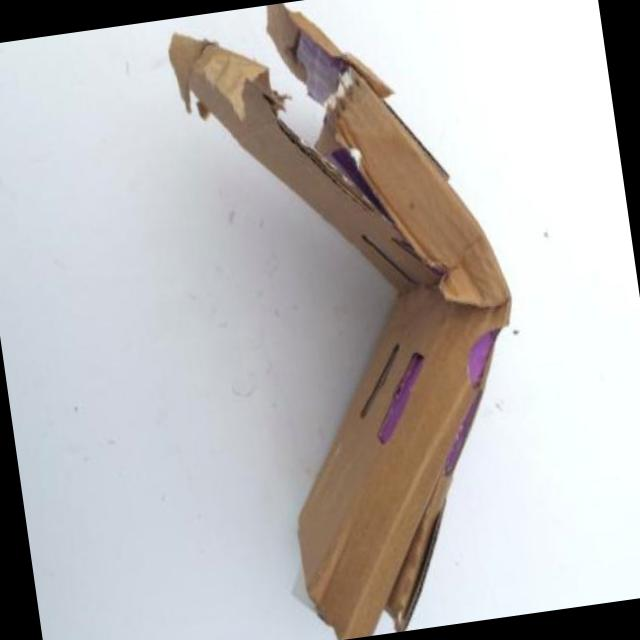cardboard paper: (170, 2, 510, 640)
